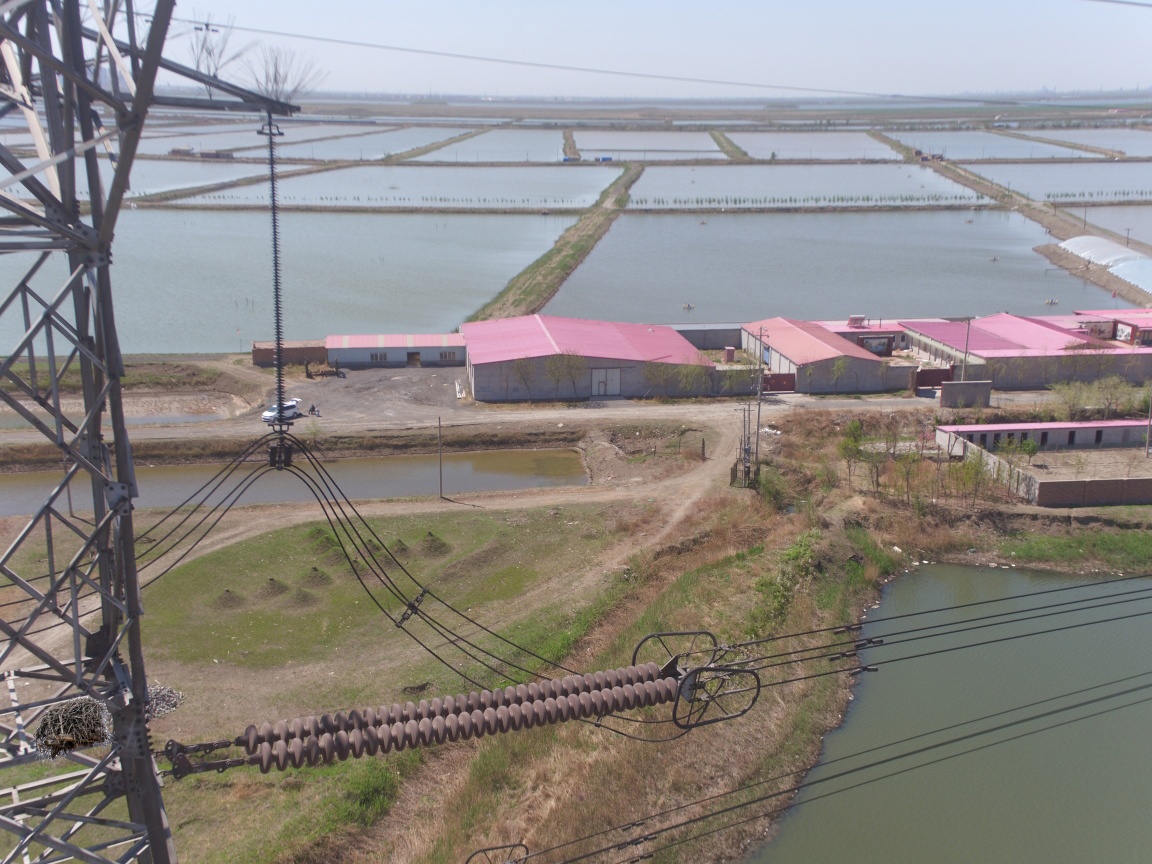nest: (24, 699, 109, 758)
